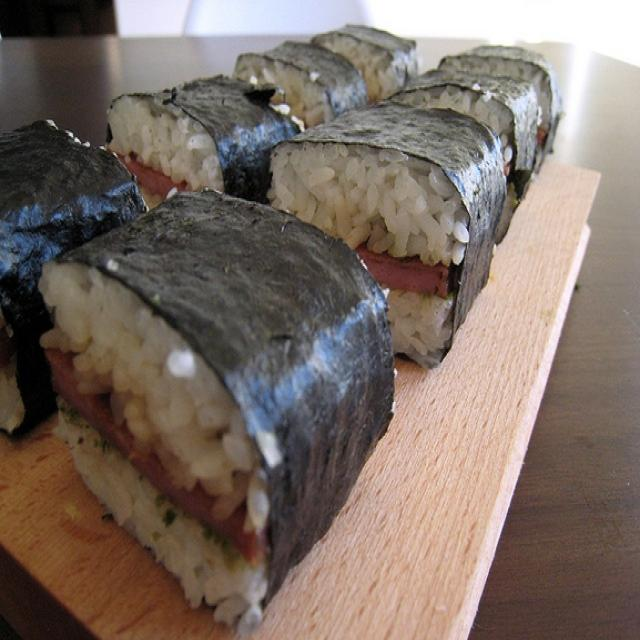寿司卷物: (4, 15, 582, 631)
